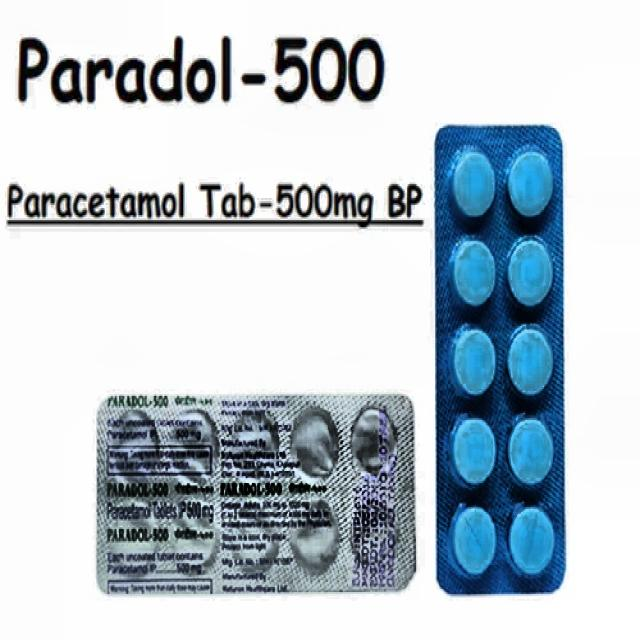Paracetamol: (425, 116, 578, 594), (12, 152, 420, 245)
